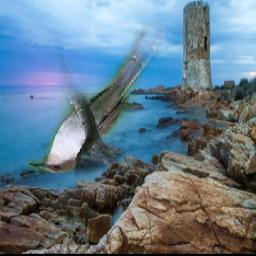Cuckoo: (28, 24, 162, 174)
